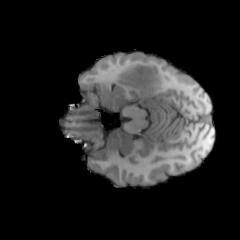glioma: (116, 65, 162, 97)
